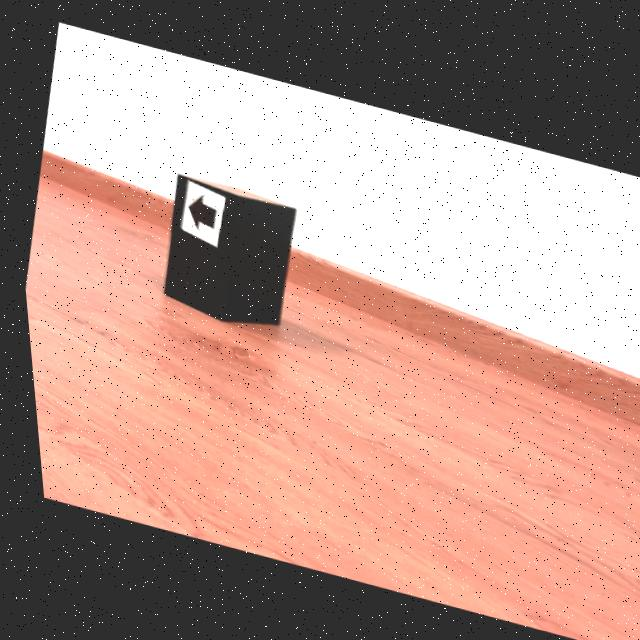LEFT: (184, 193, 213, 227)
